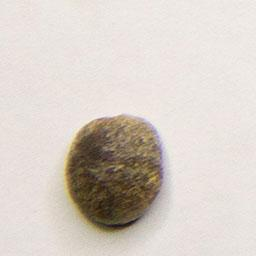defect: (58, 107, 174, 235)
